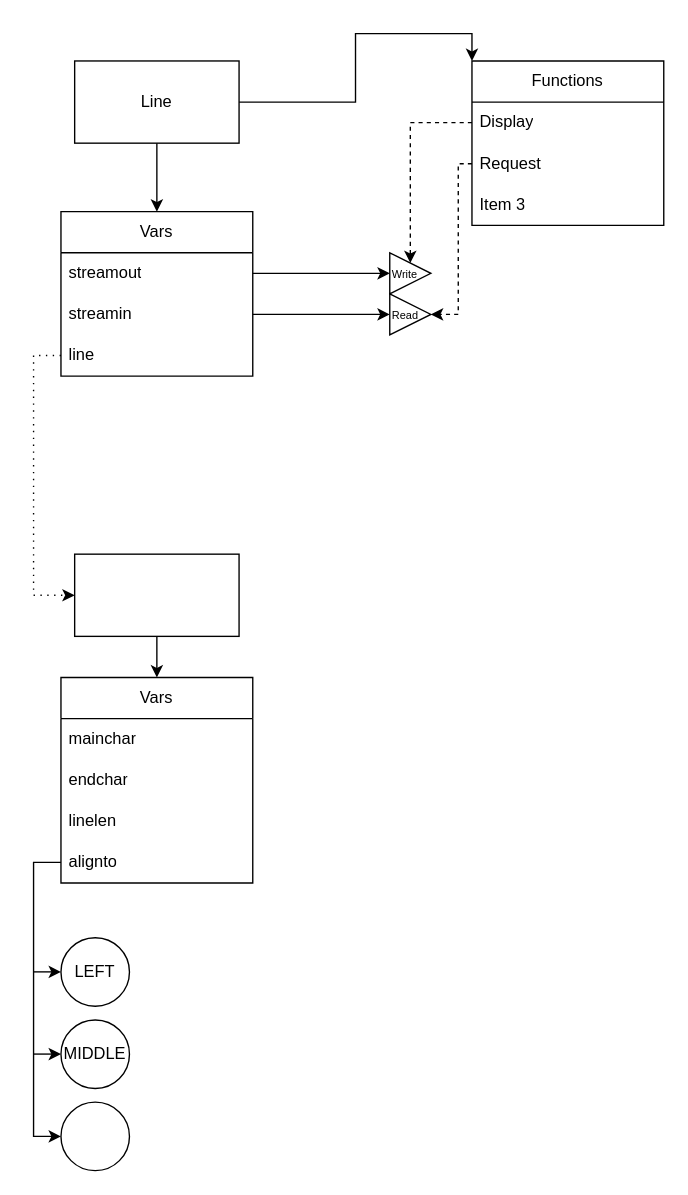
Image size: 688x1195. Some labels were removed from this diagram. Each missing label, with the centre of its shape:
LineFormat: the point at 156,594
RIGHT: the point at 94,1136
